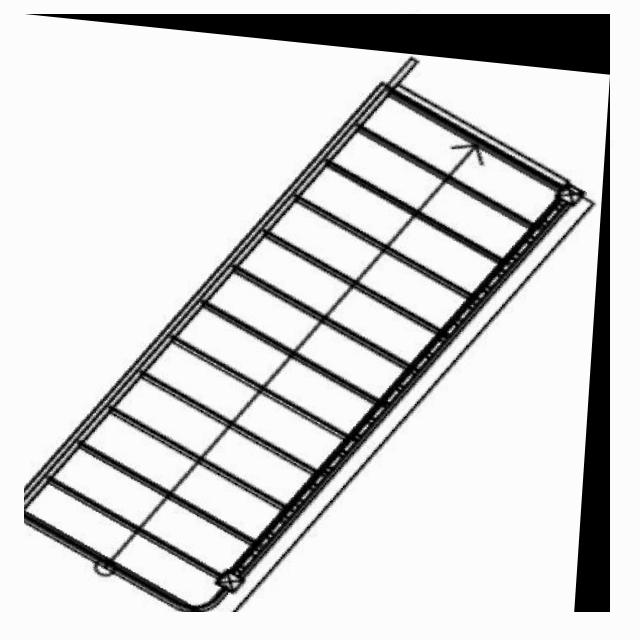stair: (24, 14, 610, 612)
